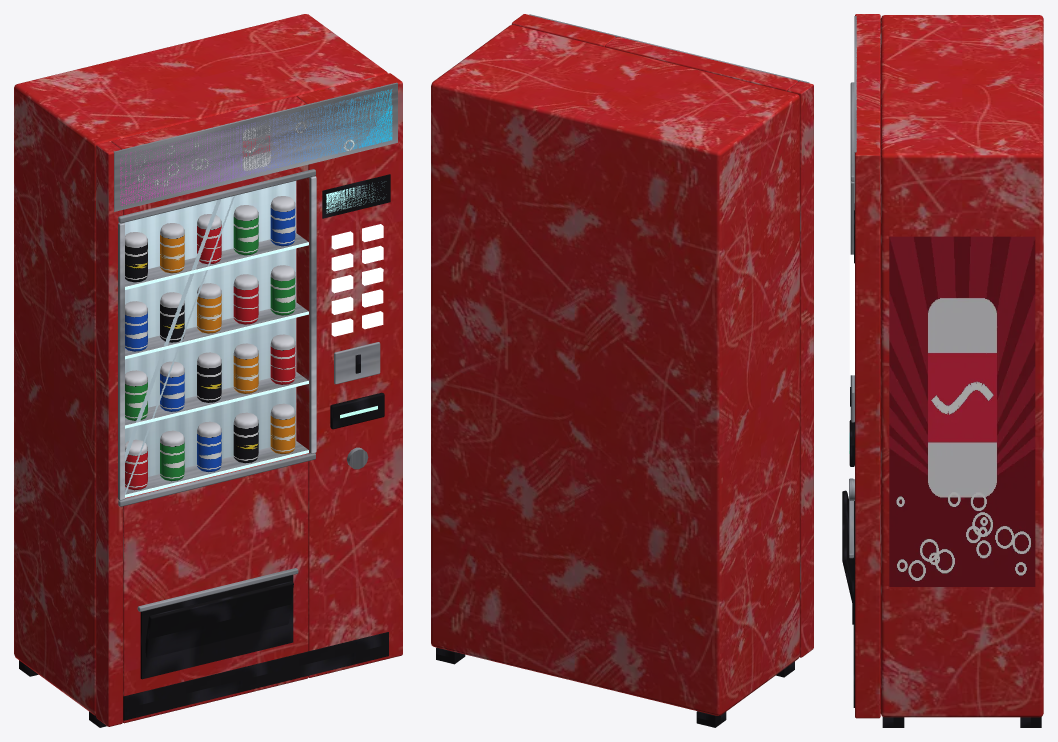
The model's file is prop_vendingMachine.glb.
The picture shows the model from 3 angles, left to right: view 1: azimuth 30°, elevation 25°; view 2: azimuth 150°, elevation 25°; view 3: azimuth 270°, elevation 25°; orthographic projection.
Visible parts, largest first — view 1: prop; view 2: prop; view 3: prop.
Boxes of the visible parts, x1,y1,x2,y2 form: prop: (14,14,402,727); prop: (431,14,813,727); prop: (842,14,1043,727).
Size of what is drawn, in the model's own units: 0.781 by 1.48 by 0.4695.
Materials: 12 (8 with a texture image).
